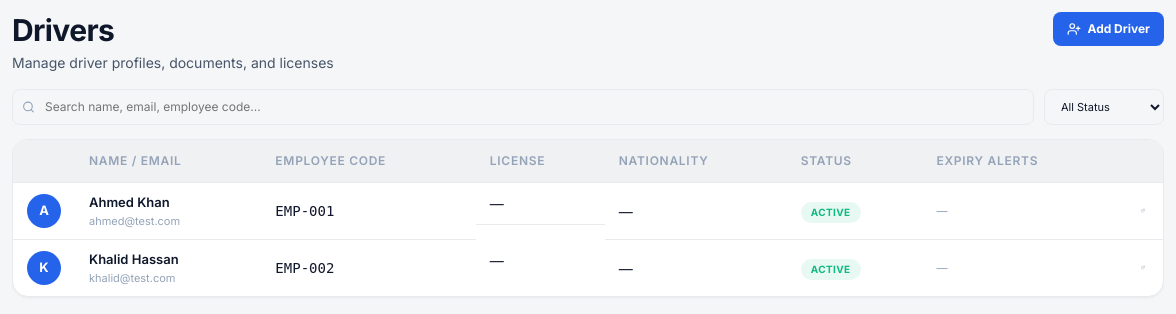
DriversPage › filters drivers by search on Enter
Check: the text "Ahmed Khan" is shown, box [89, 194, 170, 210]
Step 1. Type "Khalid" into the field with placeholder "Search name, email, employee code..." → (523, 107), box [12, 89, 1034, 125]
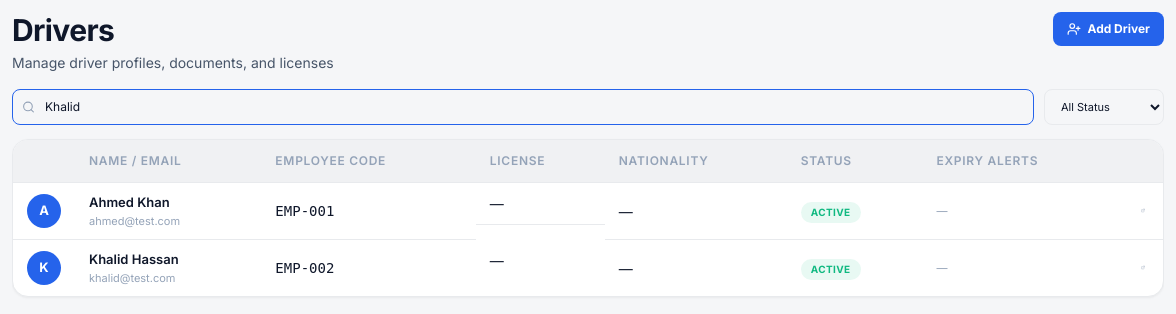
Step 2. Press Enter
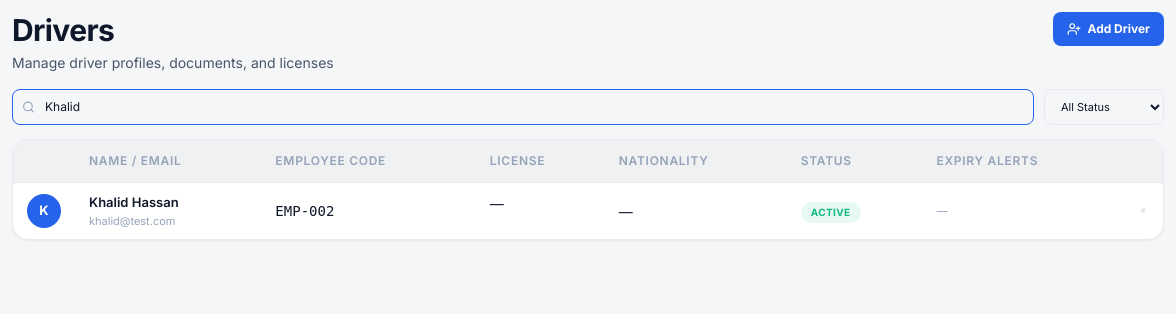
Check: the text "Khalid Hassan" is shown, box [89, 194, 179, 210]
Check: the text "Ahmed Khan" is gone
